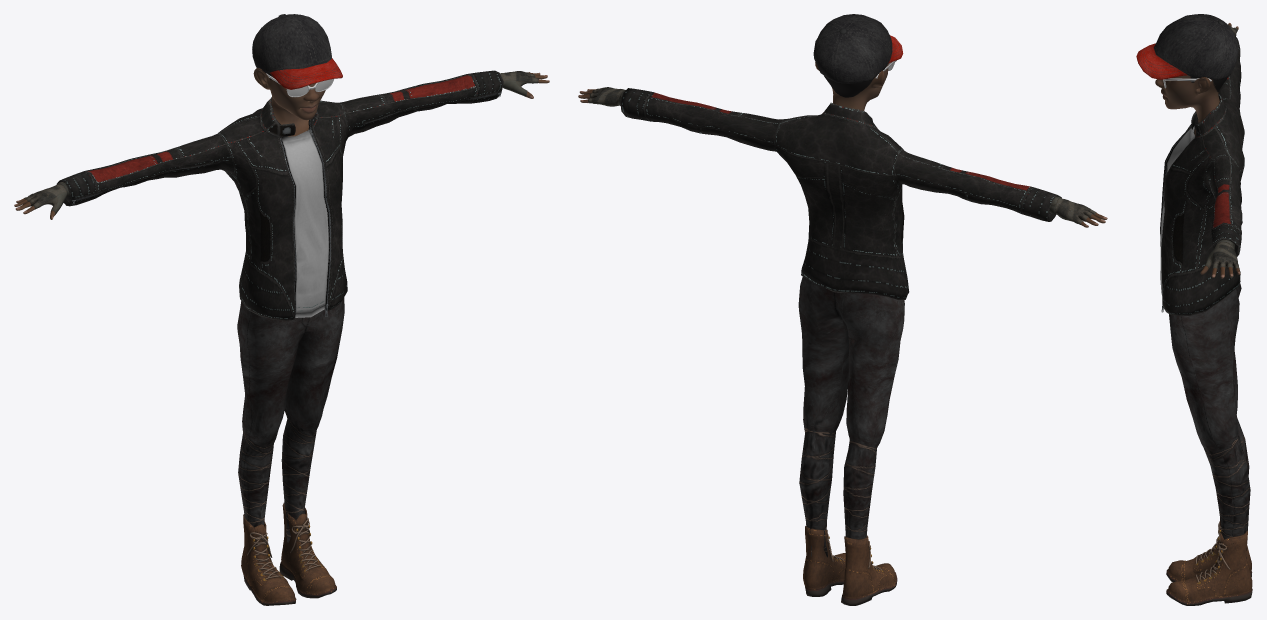
Rendered from Yanfri.obj.
The picture shows the model from 3 angles, left to right: view 1: azimuth 30°, elevation 25°; view 2: azimuth 150°, elevation 25°; view 3: azimuth 270°, elevation 25°; orthographic projection.
Visible parts, largest first — view 1: Tops, Bottoms, Shoes, Hats, Body, Gloves; view 2: Tops, Bottoms, Shoes, Hats, Body, Gloves; view 3: Tops, Bottoms, Hats, Shoes, Body, Gloves.
Part boxes in pixels (bbox=[...]): Tops: bbox=[57, 70, 503, 320]; Bottoms: bbox=[237, 297, 344, 542]; Shoes: bbox=[241, 503, 336, 605]; Hats: bbox=[252, 14, 342, 89]; Body: bbox=[14, 68, 549, 219]; Gloves: bbox=[24, 71, 538, 214]; Tops: bbox=[620, 88, 1061, 299]; Bottoms: bbox=[798, 276, 904, 557]; Shoes: bbox=[803, 526, 897, 605]; Hats: bbox=[813, 14, 903, 83]; Body: bbox=[578, 62, 1107, 227]; Gloves: bbox=[588, 87, 1096, 224]; Tops: bbox=[1160, 36, 1244, 315]; Bottoms: bbox=[1169, 283, 1250, 558]; Hats: bbox=[1136, 14, 1238, 80]; Shoes: bbox=[1166, 518, 1252, 605]; Body: bbox=[1155, 23, 1240, 278]; Gloves: bbox=[1204, 24, 1239, 270].
Bounding box in the file's own units: 163 × 168 × 31.
